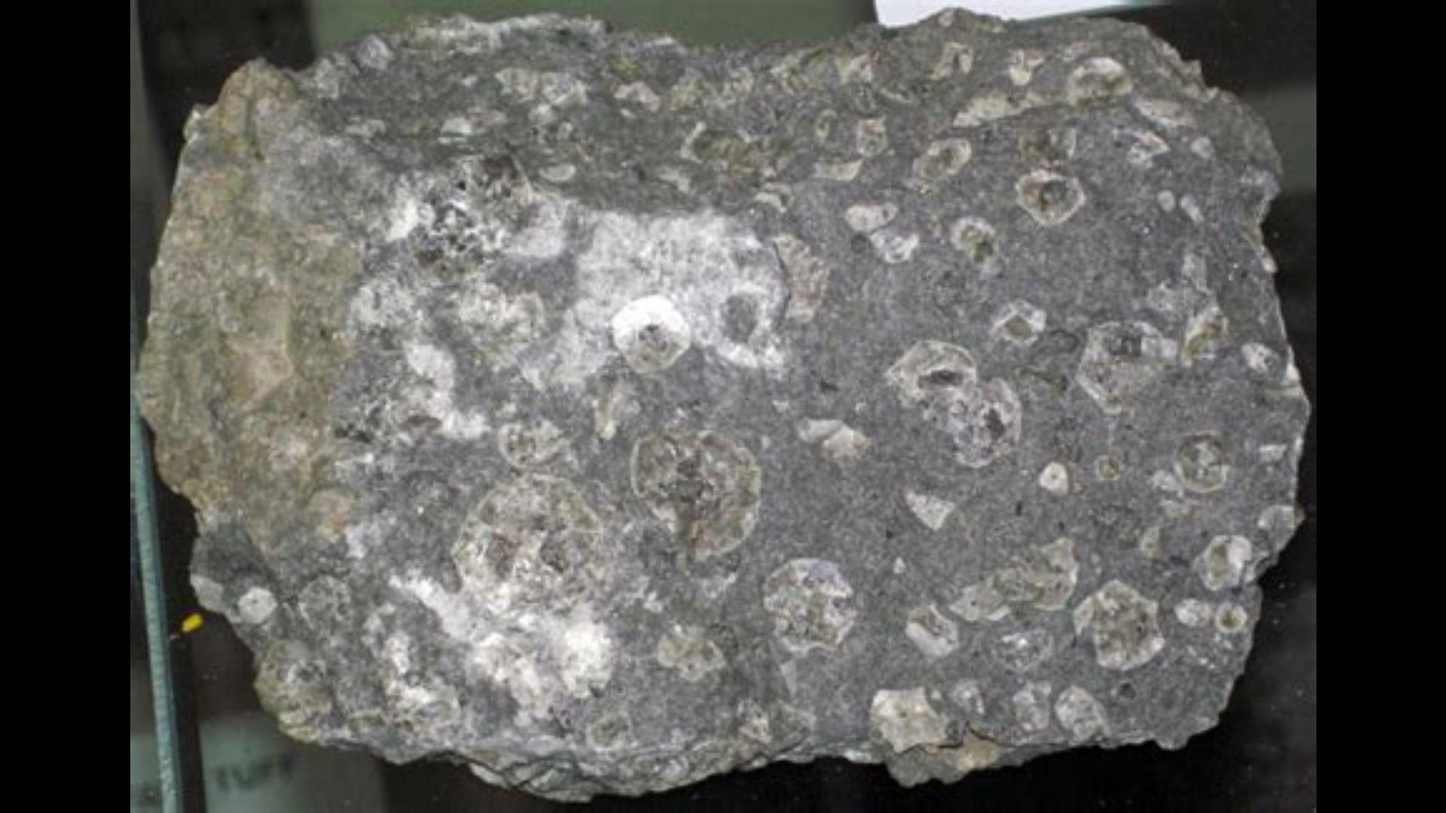rock: (142, 18, 1303, 798)
